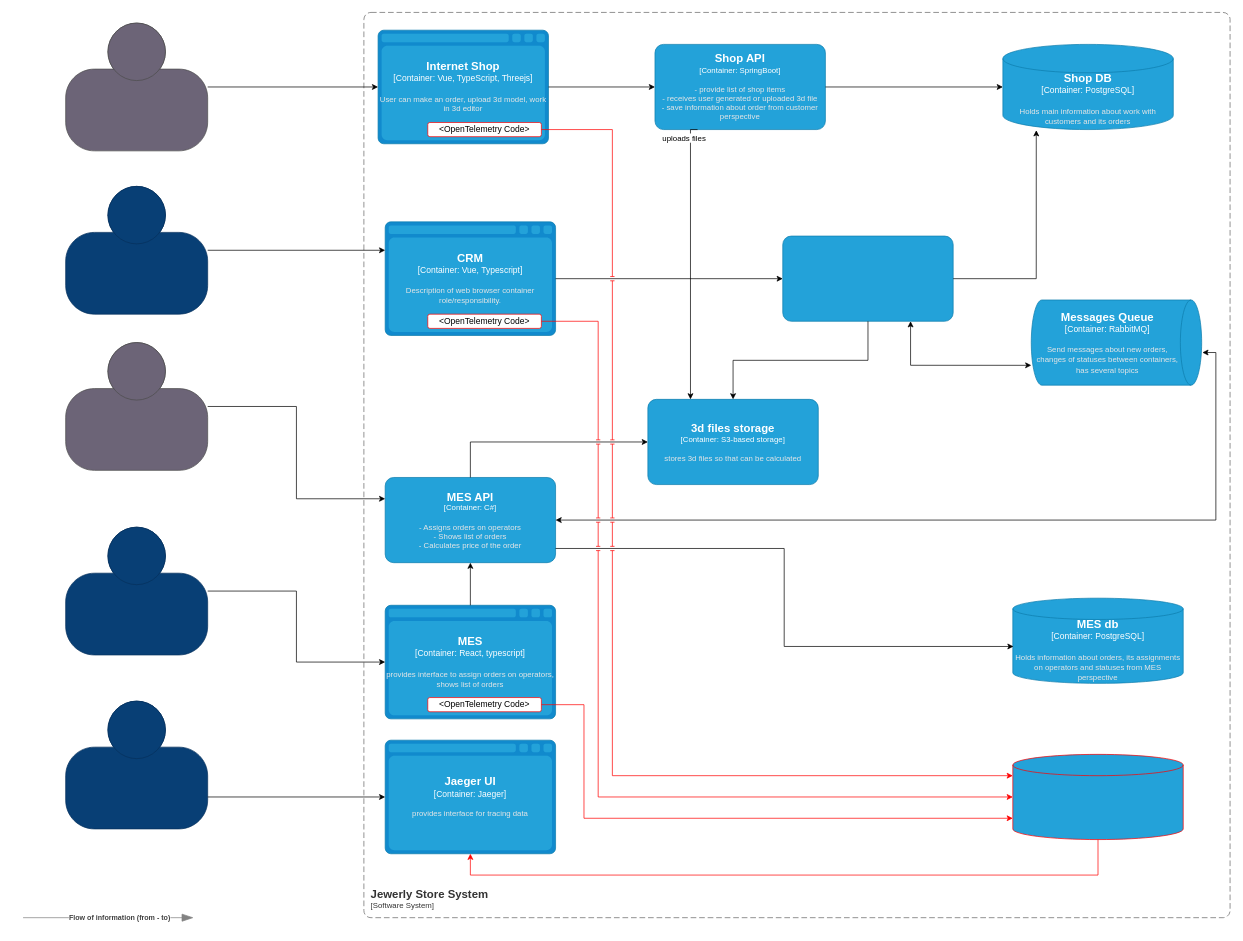
The diagram is 1243 pixels wide and 941 high, and some of its shapes have lost their labels. Here are the shapes that lost their labels. From the top down, the centre of each, then its label:
the point at 136,86: Customer [Person] Description of external person.
the point at 136,250: Seller [Person] Operates with order, confirms manufacturing for the user
the point at 867,278: CRM API [Container: SpringBoot] Description of container role/responsibility.
the point at 136,406: API user [Person] Description of external person.
the point at 136,590: Operator [Person] Takes order in work, manufactures jewerly
the point at 136,764: IT administrator [Person] Works with tracing data
the point at 1097,797: Jaeger DB [Container: Jaeger DB] Holds information about traced data
